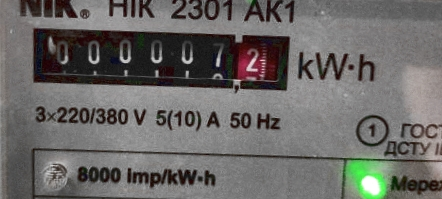0: (52, 37, 71, 65), (115, 35, 133, 64), (147, 36, 165, 64), (178, 37, 195, 66), (84, 37, 102, 64)
2: (243, 46, 261, 73)
7: (209, 38, 226, 69)
screen: (18, 14, 302, 102)
